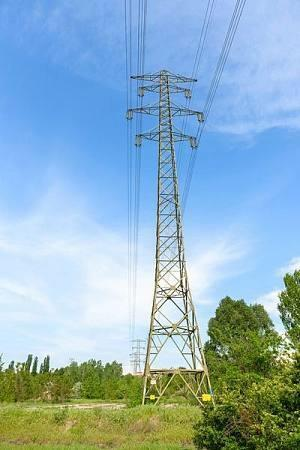power_tower: (122, 63, 227, 401), (126, 326, 148, 379)
